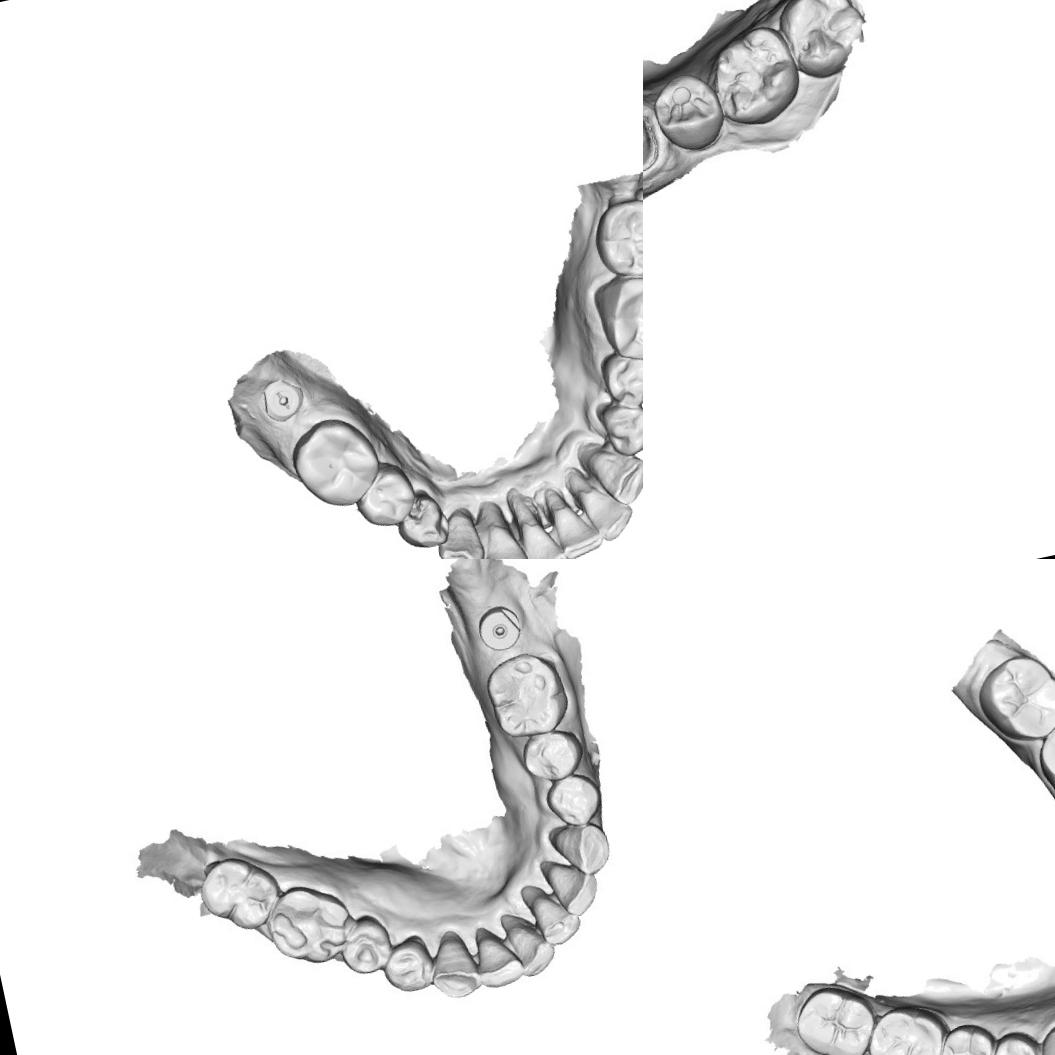canine: (422, 923, 486, 1003), (545, 814, 611, 880), (592, 444, 643, 509), (430, 506, 487, 559)
crown: (643, 88, 666, 181)
implant: (466, 589, 532, 664)
implant_minus: (257, 372, 308, 424)
incisor: (574, 472, 639, 546), (504, 907, 556, 984), (543, 850, 601, 918), (543, 495, 602, 559), (523, 879, 576, 949), (473, 926, 523, 988), (513, 508, 570, 559), (473, 512, 531, 559)
molar: (702, 22, 808, 134), (284, 410, 388, 514), (260, 876, 364, 974), (770, 0, 873, 85), (192, 848, 282, 940), (479, 647, 568, 740), (979, 651, 1055, 746), (791, 984, 879, 1055), (586, 190, 643, 287), (592, 265, 643, 369), (860, 1005, 955, 1055), (1033, 711, 1055, 811)
premolar: (643, 66, 731, 160), (352, 458, 420, 533), (540, 769, 606, 830), (392, 488, 451, 554), (522, 727, 584, 780), (340, 918, 392, 980), (597, 395, 643, 459), (383, 936, 433, 994), (600, 346, 643, 412), (937, 1025, 1001, 1055), (985, 1033, 1045, 1055)
